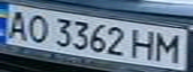2: (106, 24, 130, 57)
3: (48, 16, 75, 48), (69, 19, 90, 52)
6: (87, 21, 109, 55)
A: (3, 8, 33, 41)
H: (130, 28, 160, 61)
M: (151, 30, 187, 64)
O: (21, 12, 51, 44)
